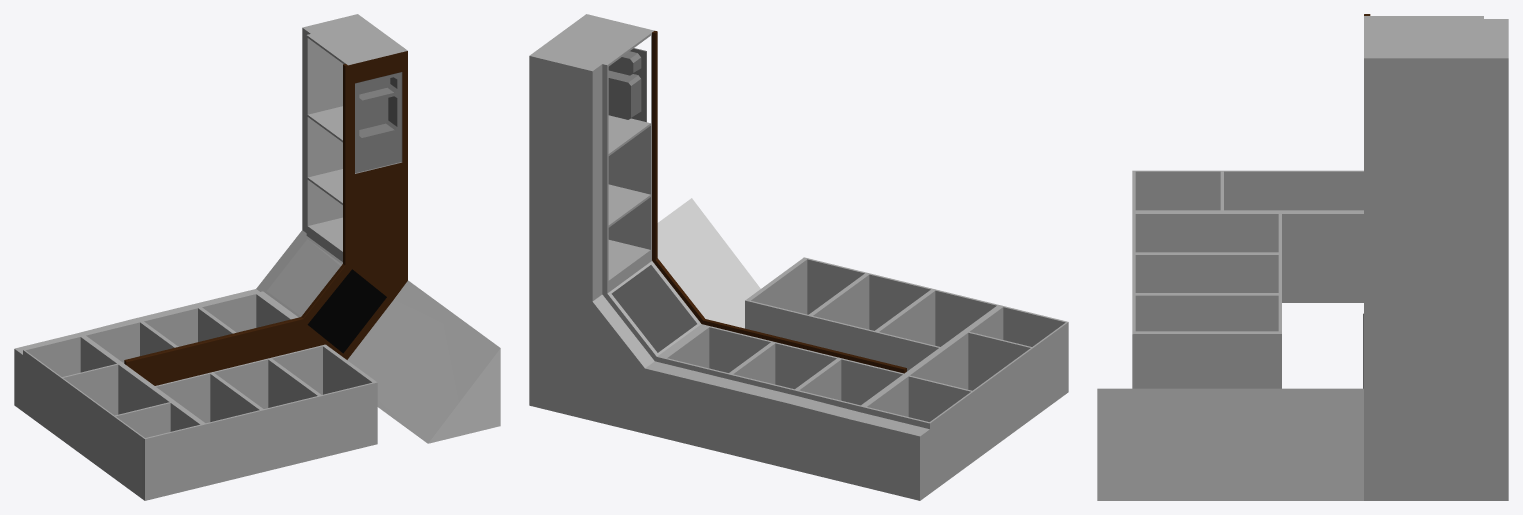
Rendered from kitchen.obj.
The picture shows the model from 3 angles, left to right: view 1: azimuth 30°, elevation 25°; view 2: azimuth 150°, elevation 25°; view 3: azimuth 270°, elevation 25°; orthographic projection. The views are drawn at different scales.
Visible parts, largest first — view 1: Kitchen; view 2: Kitchen; view 3: Kitchen.
Boxes of the visible parts, x1,y1,x2,y2 form: Kitchen: (14, 14, 500, 500); Kitchen: (529, 14, 1068, 500); Kitchen: (1097, 14, 1508, 500).
Bounding box in the file's own units: 3552 × 3037 × 2558.
